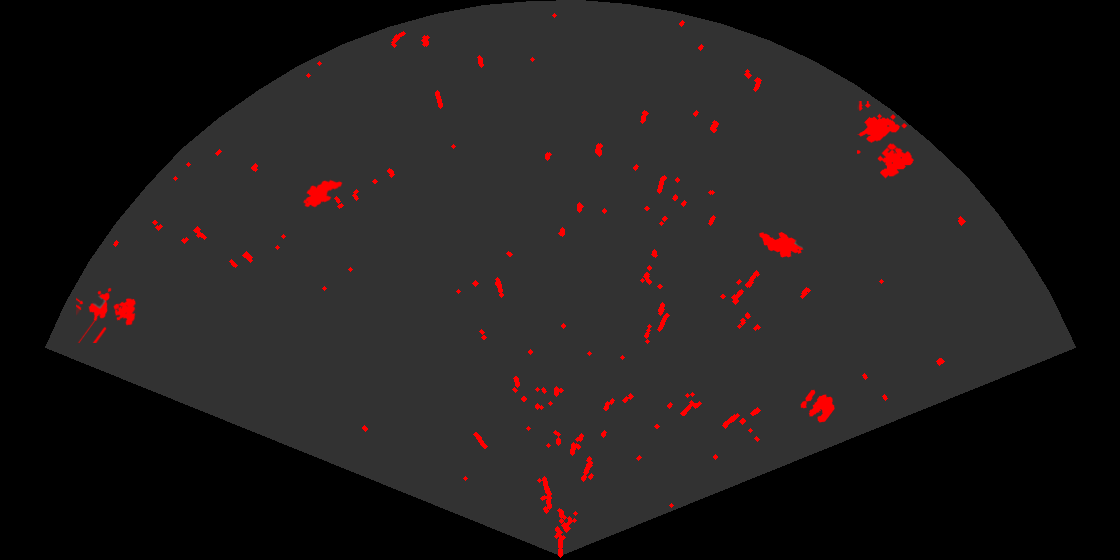AUV: (758, 230, 805, 259), (301, 178, 344, 209)
ball: (799, 388, 836, 424)
cage: (857, 101, 915, 180), (76, 286, 138, 343)
